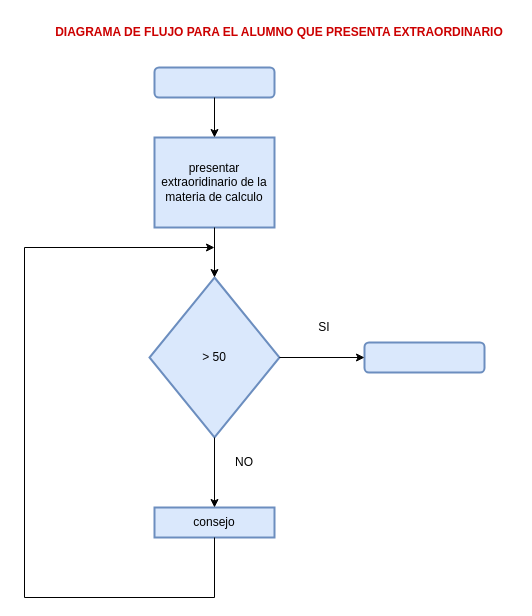
This 532x616 diagram has some shape labels left out. The shapes that lost their labels are listed below. From the top down, each one's box as (x1, y1, x2, y2) in pixels, then its label:
(153, 66, 275, 98): inicio
(363, 341, 485, 373): fin
